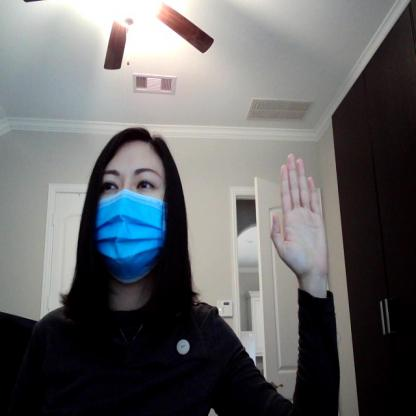hello: (261, 146, 336, 299)
